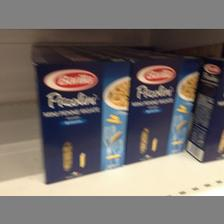Nudeln: (33, 56, 131, 184), (122, 54, 202, 162)
